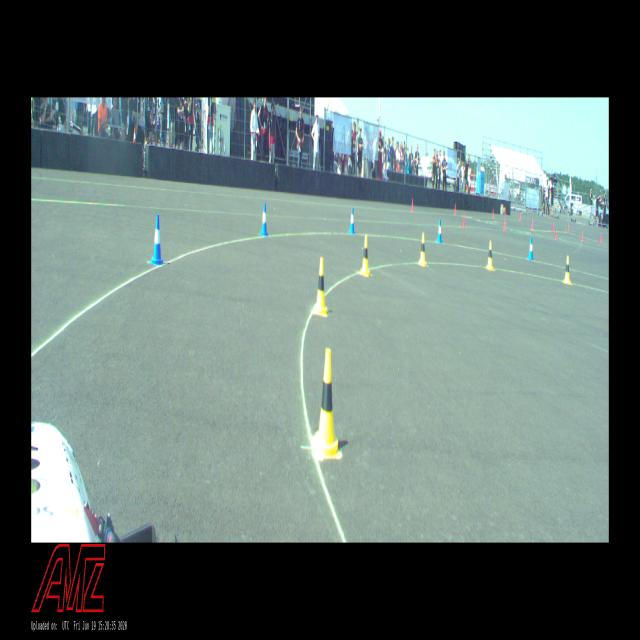blue_cone: (149, 215, 163, 264), (259, 202, 268, 236), (349, 206, 355, 234), (528, 237, 534, 260), (437, 220, 442, 243)
unknown_cone: (462, 213, 465, 228), (503, 218, 506, 232), (554, 227, 557, 240), (599, 232, 602, 244), (411, 199, 413, 212), (454, 204, 456, 215), (531, 219, 533, 230), (581, 231, 583, 241), (492, 208, 494, 218), (552, 222, 554, 232), (567, 223, 569, 233), (505, 207, 507, 216), (519, 212, 521, 221)
yellow_cone: (314, 349, 340, 457), (314, 257, 328, 316), (360, 235, 370, 276), (418, 232, 426, 266), (486, 241, 494, 269), (564, 255, 570, 284)
